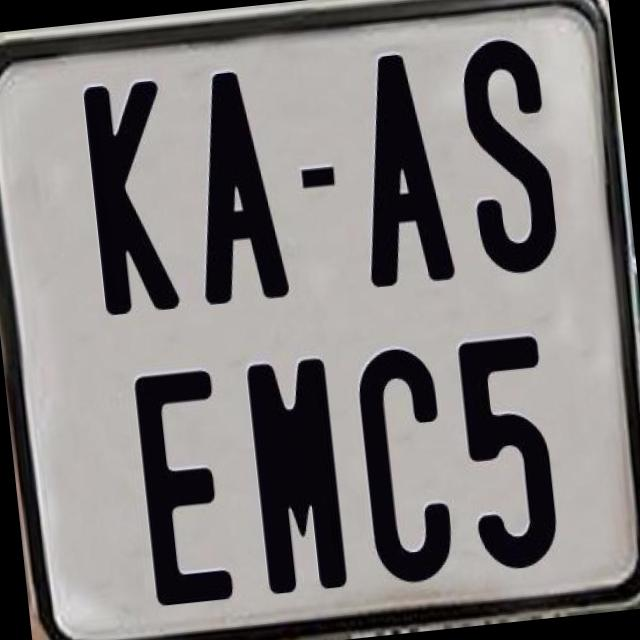5: (455, 331, 563, 573)
A: (348, 50, 462, 292), (180, 68, 292, 308)
C: (351, 340, 456, 586)
E: (130, 366, 235, 604)
K: (82, 78, 190, 324)
M: (242, 357, 348, 602)
S: (454, 32, 562, 284)
